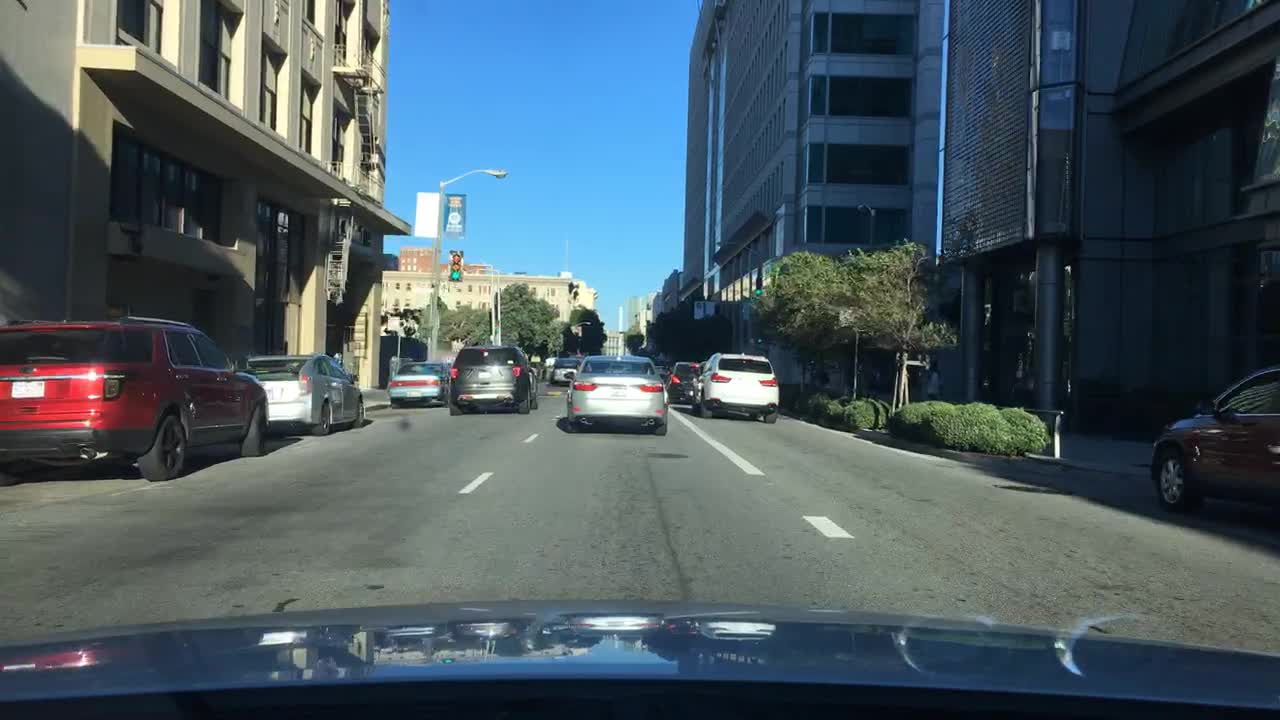car: (0, 316, 267, 481), (1148, 366, 1279, 529), (241, 351, 365, 436), (561, 352, 668, 437), (444, 339, 538, 415), (691, 351, 782, 424), (384, 358, 448, 409), (663, 361, 695, 405), (551, 359, 579, 383), (655, 361, 675, 384), (541, 356, 558, 381)
traffic light: (449, 252, 463, 283), (753, 273, 763, 299)
